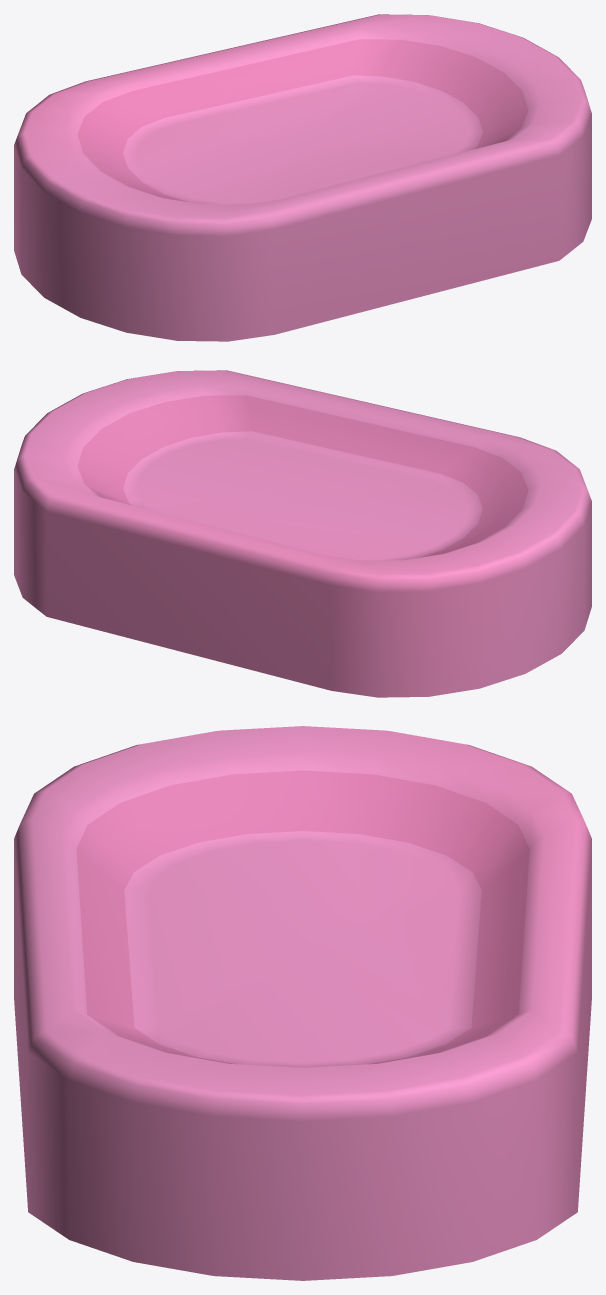
Rendered from Item_Soap.fbx.
The picture shows the model from 3 angles, top to bottom: view 1: azimuth 30°, elevation 25°; view 2: azimuth 150°, elevation 25°; view 3: azimuth 270°, elevation 25°; orthographic projection. The views are drawn at different scales.
Visible parts, largest first — view 1: Item_Soap; view 2: Item_Soap; view 3: Item_Soap.
Part boxes in pixels (bbox=[...]): Item_Soap: bbox=[14, 14, 591, 341]; Item_Soap: bbox=[14, 370, 591, 697]; Item_Soap: bbox=[14, 726, 591, 1280].
Bounding box in the file's own units: 34.62 × 7.57 × 22.13.
